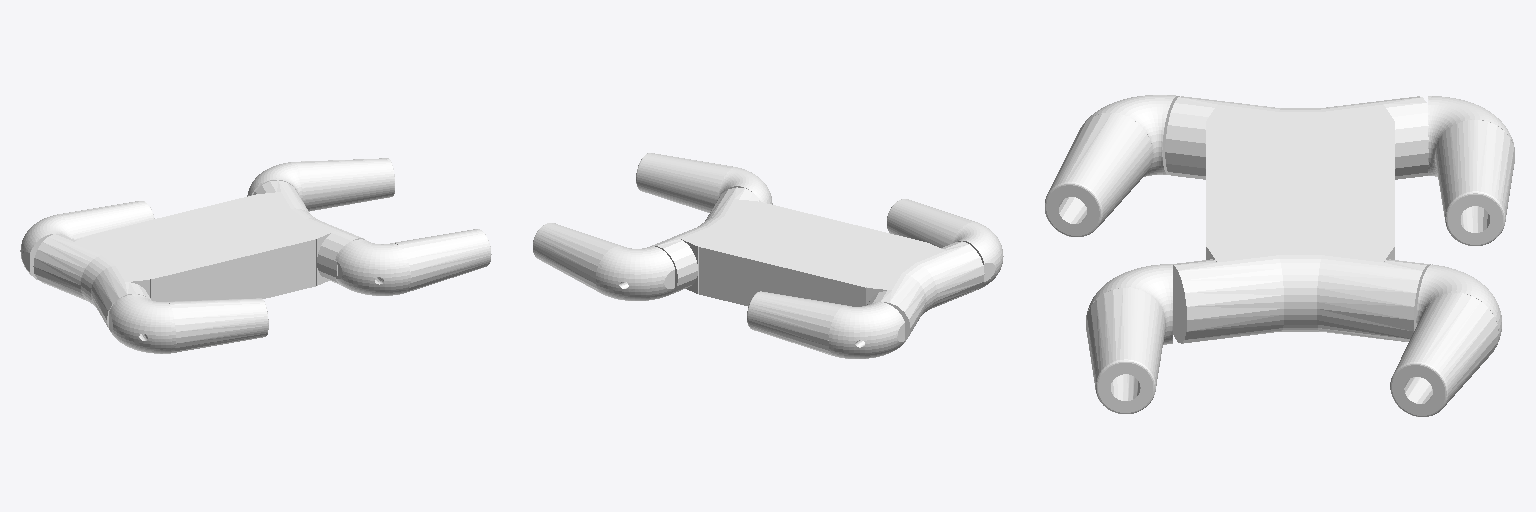
URDF robot description (16_degree):
<?xml version="1.0" encoding="utf-8"?>
<!-- This URDF was automatically created by SolidWorks to URDF Exporter! Originally created by [author] ([email redacted]) 
     Commit Version: 1.5.1-0-g916b5db  Build Version: 1.5.7152.31018
     For more information, please see http://wiki.ros.org/sw_urdf_exporter -->
<robot
  name="16_degree">
  <link
    name="base_link">
    <inertial>
      <origin
        xyz="2.0817E-17 3.7026E-08 -5.3855E-10"
        rpy="0 0 0" />
      <mass
        value="2.942" />
      <inertia
        ixx="0.0099603"
        ixy="1.2793E-10"
        ixz="-1.5392E-10"
        iyy="0.0437392"
        iyz="-2.3843E-18"
        izz="0.0512986" />
    </inertial>
    <visual>
      <origin
        xyz="0 0 0"
        rpy="0 0 0" />
      <geometry>
        <mesh
          filename="package://16_degree/meshes/base_link.STL" />
      </geometry>
      <material
        name="">
        <color
          rgba="1 1 1 1" />
      </material>
    </visual>
    <collision>
      <origin
        xyz="0 0 0"
        rpy="0 0 0" />
      <geometry>
        <mesh
          filename="package://16_degree/meshes/base_link.STL" />
      </geometry>
    </collision>
  </link>
  <link
    name="left_front_link">
    <inertial>
      <origin
        xyz="-1.7488E-08 0.064554 -0.018951"
        rpy="0 0 0" />
      <mass
        value="0.092" />
      <inertia
        ixx="0.0002604"
        ixy="5.0412E-10"
        ixz="9.2784E-10"
        iyy="0.0000562"
        iyz="-0.0000351"
        izz="0.0002540" />
    </inertial>
    <visual>
      <origin
        xyz="0 0 0"
        rpy="0 0 0" />
      <geometry>
        <mesh
          filename="package://16_degree/meshes/left_front_link.STL" />
      </geometry>
      <material
        name="">
        <color
          rgba="1 1 1 1" />
      </material>
    </visual>
    <collision>
      <origin
        xyz="0 0 0"
        rpy="0 0 0" />
      <geometry>
        <mesh
          filename="package://16_degree/meshes/left_front_link.STL" />
      </geometry>
    </collision>
  </link>
  <joint
    name="left_front_leg"
    type="continuous">
    <origin
      xyz="0.15839 0.09901 0"
      rpy="1.5708 1.5708 0" />
    <parent
      link="base_link" />
    <child
      link="left_front_link" />
    <axis
      xyz="0 0.27564 -0.96126" />
    <limit
      effort="5"
      velocity="487" />
  </joint>
  <link
    name="right_front_link">
    <inertial>
      <origin
        xyz="1.7488E-08 0.064554 0.018951"
        rpy="0 0 0" />
      <mass
        value="0.092" />
      <inertia
        ixx="0.0002604"
        ixy="-5.0412E-10"
        ixz="9.2784E-10"
        iyy="0.0000562"
        iyz="0.0000351"
        izz="0.000254" />
    </inertial>
    <visual>
      <origin
        xyz="0 0 0"
        rpy="0 0 0" />
      <geometry>
        <mesh
          filename="package://16_degree/meshes/right_front_link.STL" />
      </geometry>
      <material
        name="">
        <color
          rgba="1 1 1 1" />
      </material>
    </visual>
    <collision>
      <origin
        xyz="0 0 0"
        rpy="0 0 0" />
      <geometry>
        <mesh
          filename="package://16_degree/meshes/right_front_link.STL" />
      </geometry>
    </collision>
  </link>
  <joint
    name="right_front_leg"
    type="continuous">
    <origin
      xyz="0.15839 -0.09901 0"
      rpy="1.5708 1.5708 0" />
    <parent
      link="base_link" />
    <child
      link="right_front_link" />
    <axis
      xyz="0 0.27564 0.96126" />
    <limit
      effort="5"
      velocity="487" />
  </joint>
  <link
    name="right_back_link">
    <inertial>
      <origin
        xyz="8.6114E-08 0.056834 0.03601"
        rpy="0 0 0" />
      <mass
        value="0.092" />
      <inertia
        ixx="0.0002604"
        ixy="-5.4276E-10"
        ixz="2.4861E-10"
        iyy="0.0000526"
        iyz="-2.27E-05"
        izz="0.0002575" />
    </inertial>
    <visual>
      <origin
        xyz="0 0 0"
        rpy="0 0 0" />
      <geometry>
        <mesh
          filename="package://16_degree/meshes/right_back_link.STL" />
      </geometry>
      <material
        name="">
        <color
          rgba="1 1 1 1" />
      </material>
    </visual>
    <collision>
      <origin
        xyz="0 0 0"
        rpy="0 0 0" />
      <geometry>
        <mesh
          filename="package://16_degree/meshes/right_back_link.STL" />
      </geometry>
    </collision>
  </link>
  <joint
    name="right_back_leg"
    type="continuous">
    <origin
      xyz="-0.15839 -0.09901 0"
      rpy="1.85 1.5708 0" />
    <parent
      link="base_link" />
    <child
      link="right_back_link" />
    <axis
      xyz="0 0 1" />
    <limit
      effort="5"
      velocity="487" />
  </joint>
  <link
    name="left_back_link">
    <inertial>
      <origin
        xyz="-8.6114E-08 0.044706 -0.050281"
        rpy="0 0 0" />
      <mass
        value="0.092" />
      <inertia
        ixx="0.0002604"
        ixy="5.9026E-10"
        ixz="8.9378E-11"
        iyy="0.0000802"
        iyz="0.0000735"
        izz="0.0002299" />
    </inertial>
    <visual>
      <origin
        xyz="0 0 0"
        rpy="0 0 0" />
      <geometry>
        <mesh
          filename="package://16_degree/meshes/left_back_link.STL" />
      </geometry>
      <material
        name="">
        <color
          rgba="1 1 1 1" />
      </material>
    </visual>
    <collision>
      <origin
        xyz="0 0 0"
        rpy="0 0 0" />
      <geometry>
        <mesh
          filename="package://16_degree/meshes/left_back_link.STL" />
      </geometry>
    </collision>
  </link>
  <joint
    name="left_back_leg"
    type="continuous">
    <origin
      xyz="-0.15839 0.09901 0"
      rpy="1.5708 1.5708 0" />
    <parent
      link="base_link" />
    <child
      link="left_back_link" />
    <axis
      xyz="0 -0.27564 -0.96126" />
    <limit
      effort="5"
      velocity="487" />
  </joint>
</robot>

--- Render facts (derived) ---
The picture shows the robot from 3 angles, left to right: view 1: azimuth 30°, elevation 25°; view 2: azimuth 150°, elevation 25°; view 3: azimuth 270°, elevation 25°; orthographic projection.
Robot: 16_degree — 5 links, 4 joints (4 continuous); root link base_link; default pose: every joint at zero.
Links seen in each view (by area): view 1: base_link, right_back_link, right_front_link, left_front_link, left_back_link; view 2: base_link, left_back_link, left_front_link, right_front_link, right_back_link; view 3: base_link, right_back_link, left_front_link, right_front_link, left_back_link.
Boxes of the visible links, <box> form: base_link: <box>33,180,364,327</box>; right_back_link: <box>109,294,268,353</box>; right_front_link: <box>335,229,491,295</box>; left_front_link: <box>247,158,394,211</box>; left_back_link: <box>20,201,154,279</box>; base_link: <box>652,187,984,342</box>; left_back_link: <box>747,291,904,358</box>; left_front_link: <box>533,223,674,300</box>; right_front_link: <box>636,153,772,212</box>; right_back_link: <box>887,199,1003,289</box>; base_link: <box>1165,96,1430,343</box>; right_back_link: <box>1045,95,1179,236</box>; left_front_link: <box>1390,264,1501,416</box>; right_front_link: <box>1086,264,1172,413</box>; left_back_link: <box>1428,96,1514,245</box>.
Size in the robot's own frame: 0.5199 by 0.3751 by 0.064 metres.
Meshes: 5 distinct files referenced, 5 mesh visuals loaded (5 binary STL).